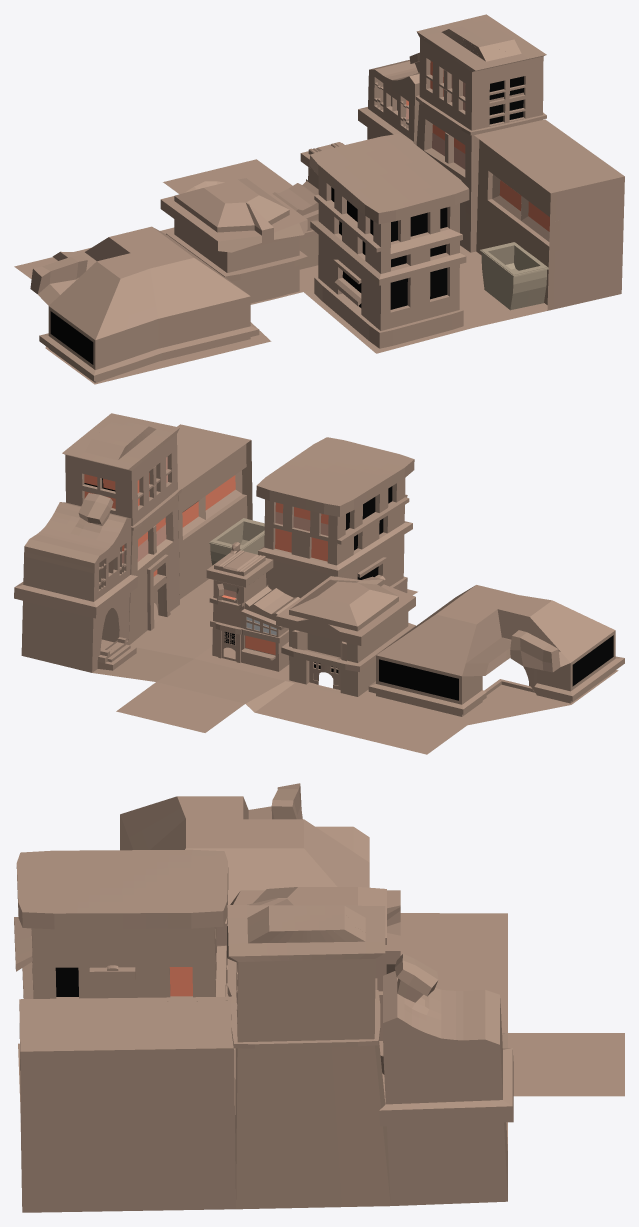
Rendered from Rat_Father_Buildings_Together.fbx.
3 renders of one model, top to bottom at view 1: azimuth 30°, elevation 25°; view 2: azimuth 150°, elevation 25°; view 3: azimuth 270°, elevation 25°, orthographic. The views are drawn at different scales.
Visible parts, largest first — view 1: Plane, Cube; view 2: Plane, Cube; view 3: Plane.
Part boxes in pixels (<box>): Plane: <box>14,14,624,384</box>; Cube: <box>479,242,548,310</box>; Plane: <box>14,413,624,754</box>; Cube: <box>209,518,264,565</box>; Plane: <box>14,783,624,1212</box>.
Bounding box in the file's own units: 9616 × 3628 × 7346.
